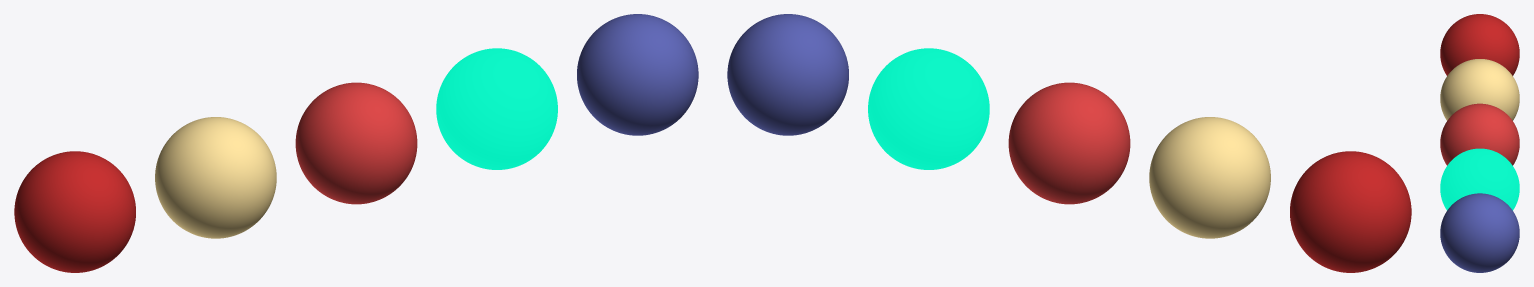
Rendered from material_lab.glb.
3 renders of one model, left to right at view 1: azimuth 30°, elevation 25°; view 2: azimuth 150°, elevation 25°; view 3: azimuth 270°, elevation 25°, orthographic. The views are drawn at different scales.
Visible parts, largest first — view 1: RedPlastic, Gold, NeonEmissive, CarPaint, SheenCloth; view 2: RedPlastic, Gold, NeonEmissive, CarPaint, SheenCloth; view 3: SheenCloth, NeonEmissive, RedPlastic, CarPaint, Gold.
Part boxes in pixels (x1,y1,x2,y2): RedPlastic: (295, 82, 417, 204); Gold: (155, 117, 276, 238); NeonEmissive: (436, 48, 557, 169); CarPaint: (14, 151, 135, 272); SheenCloth: (577, 14, 698, 135); RedPlastic: (1008, 82, 1130, 204); Gold: (1149, 117, 1270, 238); NeonEmissive: (868, 48, 989, 169); CarPaint: (1290, 151, 1411, 272); SheenCloth: (727, 14, 848, 135); SheenCloth: (1440, 193, 1519, 272); NeonEmissive: (1440, 148, 1519, 210); RedPlastic: (1440, 103, 1519, 165); CarPaint: (1440, 14, 1519, 75); Gold: (1440, 59, 1519, 120).
Size of what is drawn, in the model's own units: 11.4 by 1.8 by 1.8.
